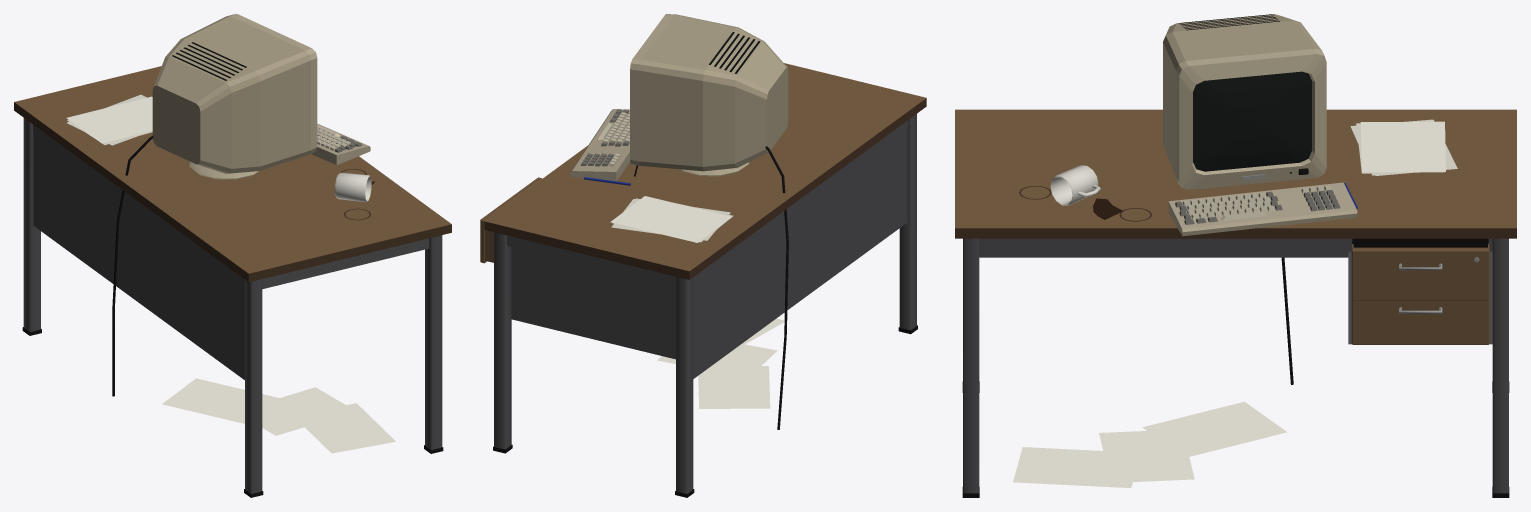
File: desk_crt@2.glb
3 views of the same model, side by side, from view 1: azimuth 30°, elevation 25°; view 2: azimuth 150°, elevation 25°; view 3: azimuth 270°, elevation 25° (orthographic). The views are drawn at different scales.
Parts seen in each view (by area): view 1: desk2, desk0, desk6, desk15, desk1, desk7, desk3, desk16, desk11, desk9, desk13; view 2: desk2, desk0, desk6, desk15, desk1, desk11, desk7, desk3, desk4, desk13, desk9, desk12; view 3: desk0, desk2, desk15, desk4, desk8, desk7, desk6, desk1, desk11, desk3, desk13, desk16 (+2 smaller).
Boxes of the visible parts, x1,y1,x2,y2 form: desk2: (23, 118, 442, 493); desk0: (14, 66, 451, 273); desk6: (152, 16, 310, 179); desk15: (66, 96, 395, 453); desk1: (14, 102, 451, 282); desk7: (227, 14, 317, 154); desk3: (22, 136, 443, 497); desk16: (334, 172, 371, 202); desk11: (311, 123, 370, 164); desk9: (172, 42, 246, 80); desk13: (317, 124, 350, 150); desk2: (494, 114, 916, 493); desk0: (485, 63, 926, 271); desk6: (639, 14, 788, 176); desk15: (610, 196, 784, 408); desk1: (484, 98, 926, 279); desk11: (570, 109, 629, 181); desk7: (630, 14, 675, 165); desk3: (493, 146, 917, 497); desk4: (480, 177, 541, 263); desk13: (598, 112, 629, 166); desk9: (709, 32, 760, 73); desk12: (580, 109, 629, 166); desk0: (955, 109, 1516, 228); desk2: (963, 238, 1508, 493); desk15: (1013, 121, 1445, 487); desk4: (1351, 243, 1489, 344); desk8: (1193, 71, 1311, 171); desk7: (1176, 48, 1326, 189); desk6: (1163, 14, 1321, 177); desk1: (955, 228, 1516, 238); desk11: (1168, 182, 1357, 236); desk3: (962, 168, 1509, 497); desk13: (1182, 185, 1331, 220); desk16: (1050, 165, 1100, 205).
Bounding box in the file's own units: 0.7819 × 1.13 × 1.4.
